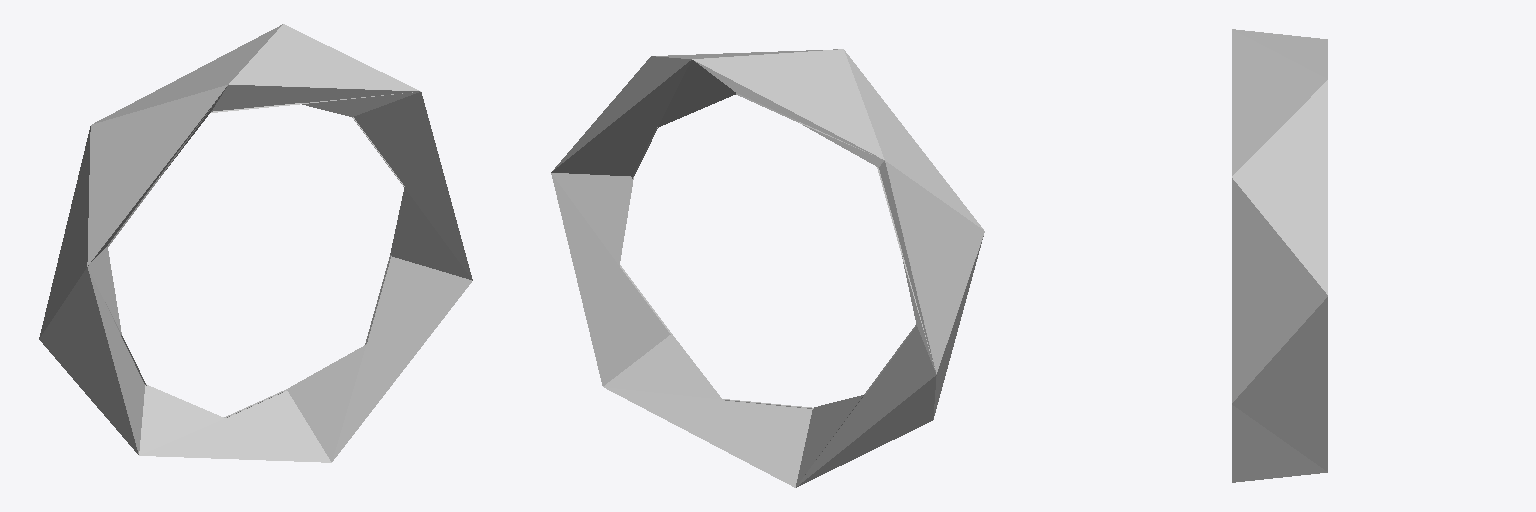
The model's file is HexagonalAntiprismTrapezohedronToroid.obj.
3 renders of one model, left to right at view 1: azimuth 30°, elevation 25°; view 2: azimuth 150°, elevation 25°; view 3: azimuth 270°, elevation 25°, orthographic.
Size of the model in its own units: 1.93 by 1.93 by 0.42.